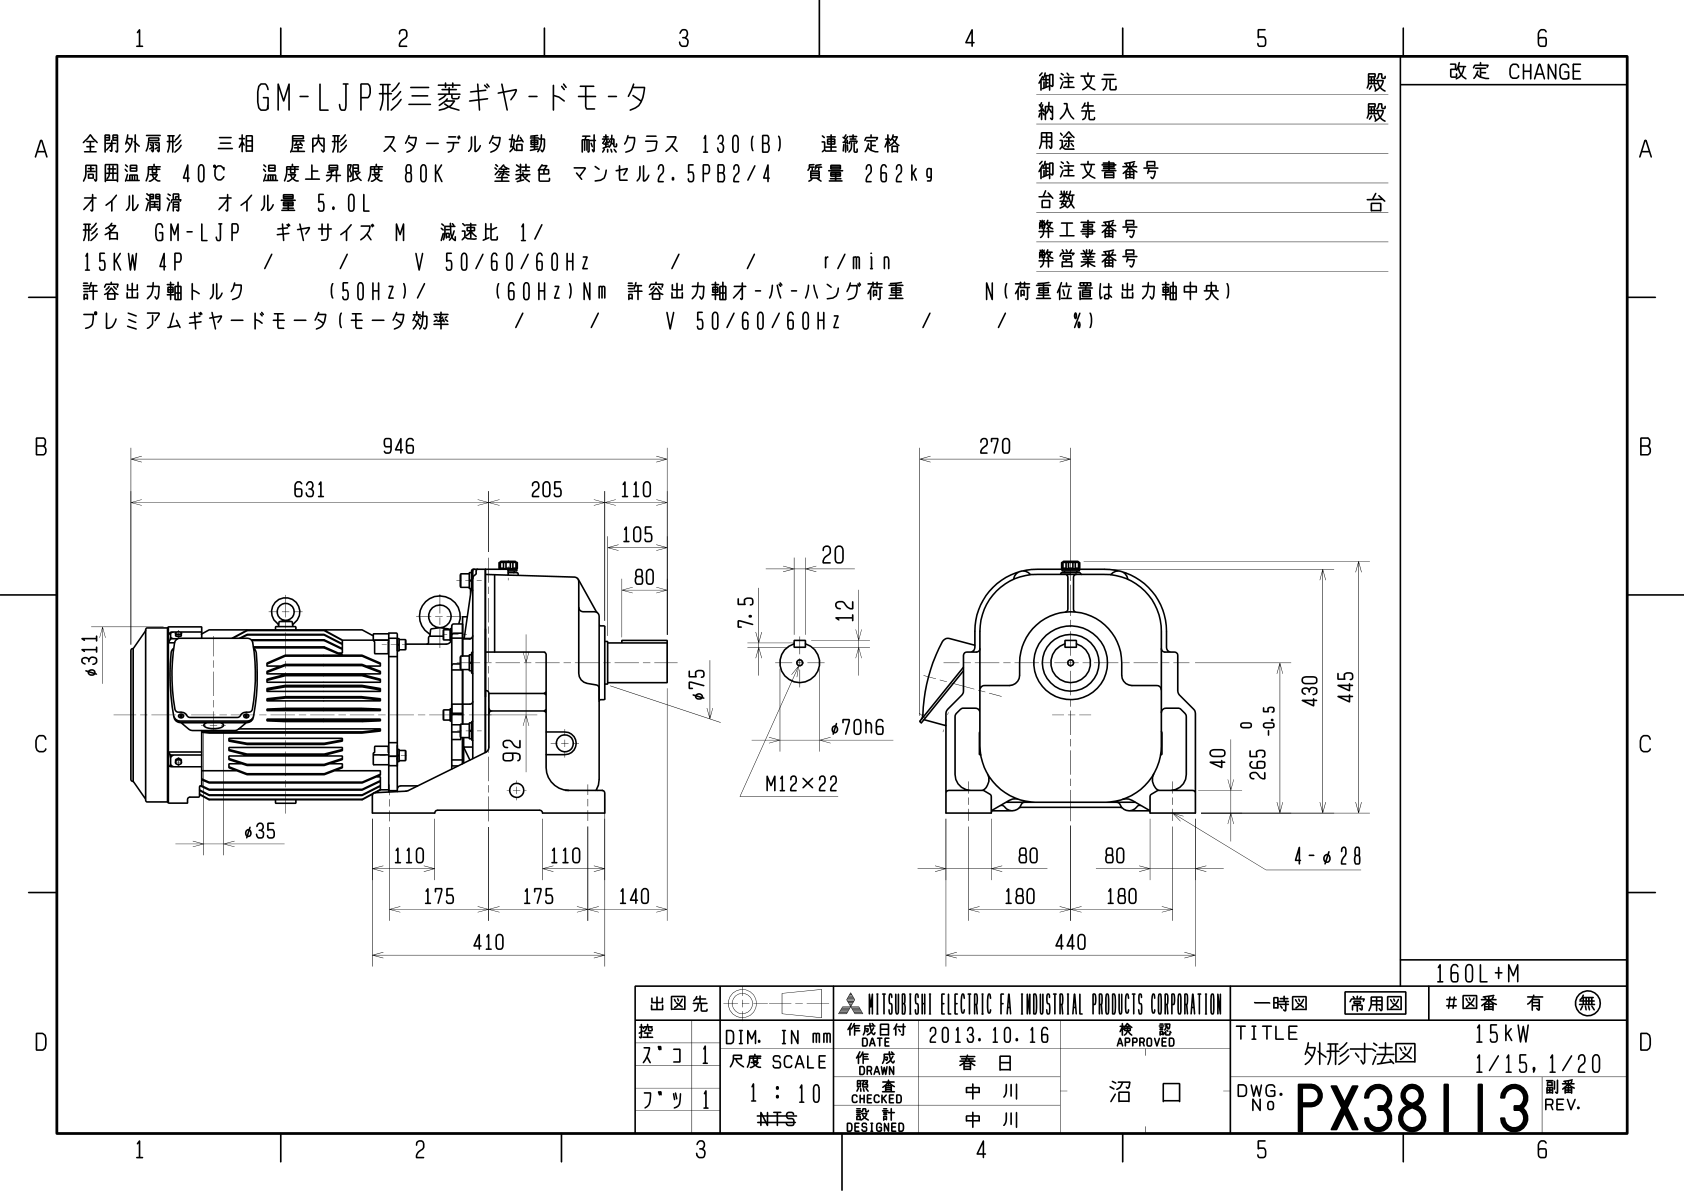GM_LJP_屋内_三相_脚: (1, 1, 1671, 1178)
